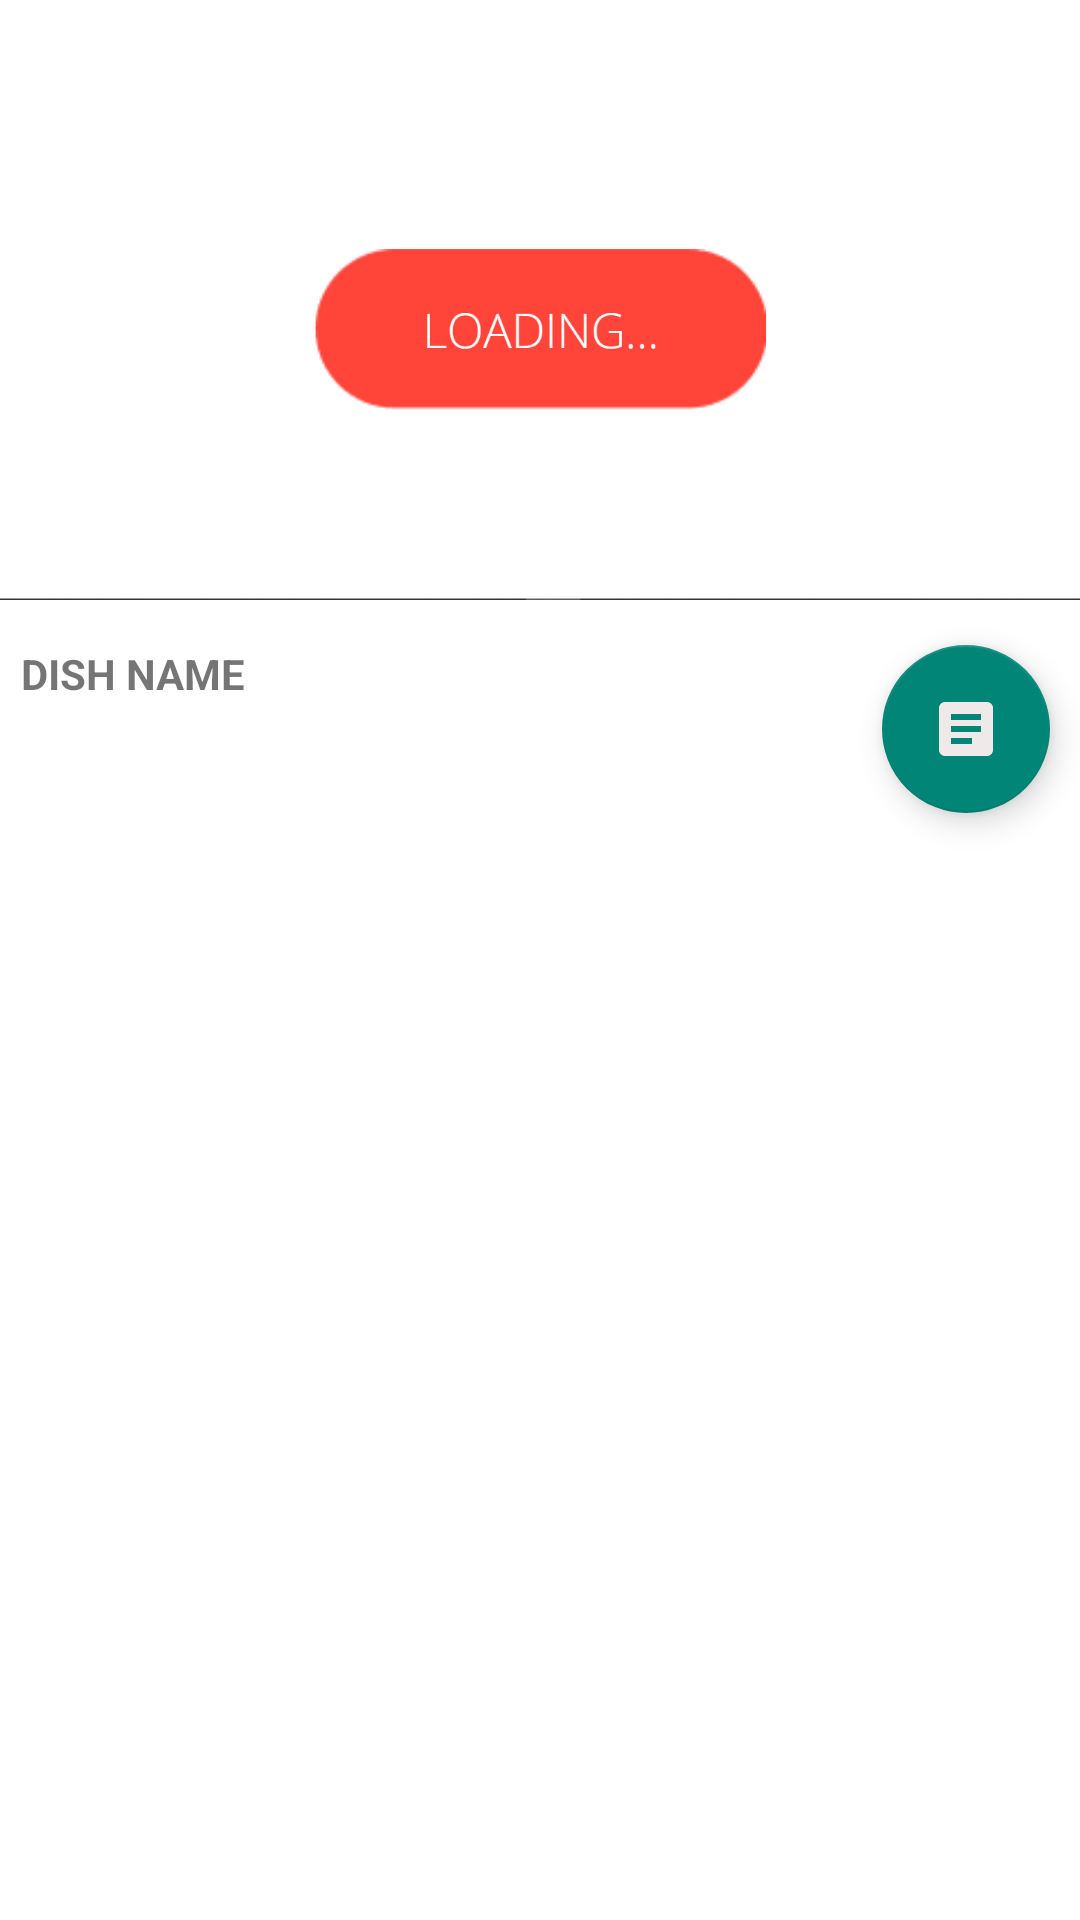

Icons on this 1080 × 1920 Android screen, each with the point to tap as point (x, y):
article: point (966, 729)
